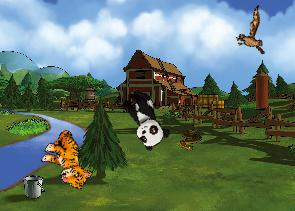eagle: (226, 5, 278, 62)
panda: (115, 85, 173, 152)
tiger: (34, 125, 104, 193)
